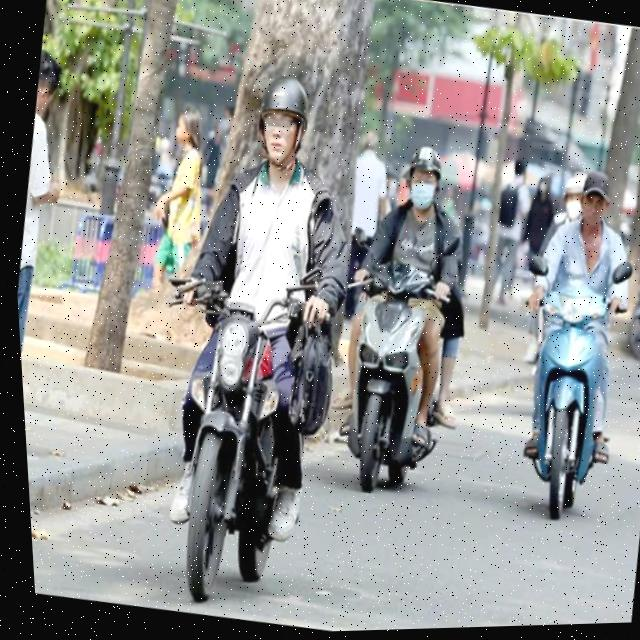motorcycle: (133, 251, 358, 625), (490, 257, 640, 535), (320, 245, 467, 509)
